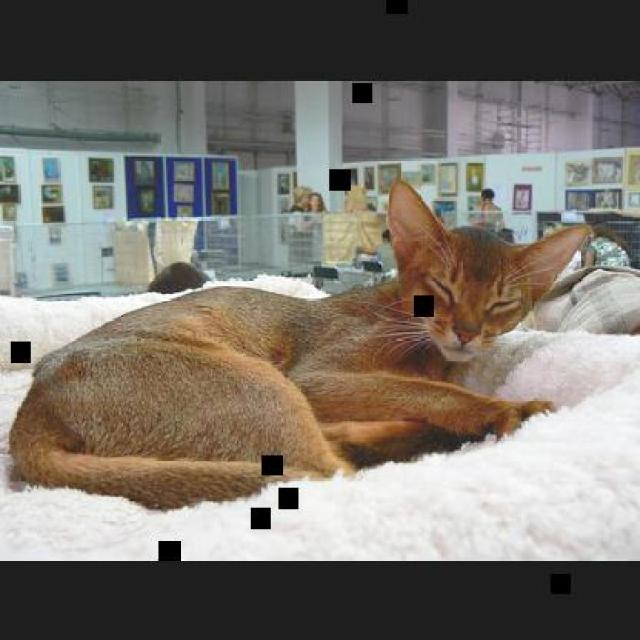unauthorized: (6, 177, 594, 511)
